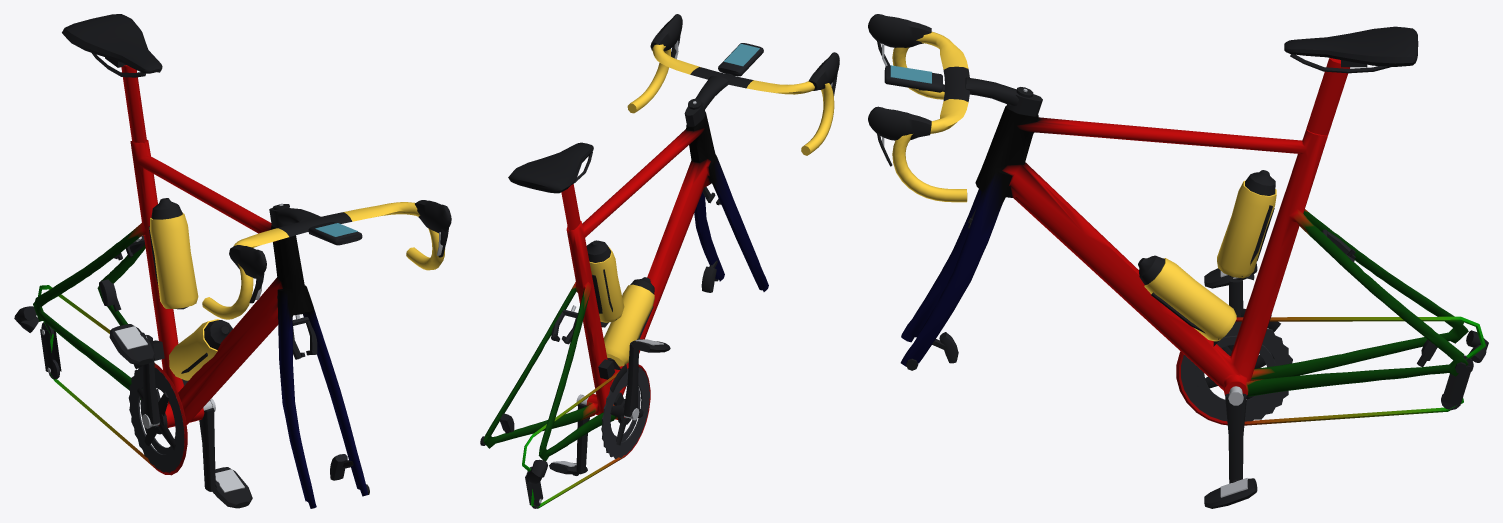
Rendered from aero.glb.
3 renders of one model, left to right at view 1: azimuth 30°, elevation 25°; view 2: azimuth 150°, elevation 25°; view 3: azimuth 270°, elevation 25°, orthographic. The views are drawn at different scales.
Parts seen in each view (by area): view 1: frame, cockpit, opt_bottles, crankset, saddle, opt_derailleur, pedal_R, pedal_L, opt_brakes_disc, opt_brakes_rim; view 2: frame, cockpit, opt_bottles, crankset, saddle, opt_derailleur, opt_brakes_disc, opt_brakes_rim, pedal_R; view 3: frame, cockpit, opt_bottles, crankset, saddle, opt_derailleur, pedal_L, opt_brakes_disc.
Part boxes in pixels (bbox=[...]): frame: bbox=[33, 65, 367, 508]; cockpit: bbox=[202, 200, 451, 319]; opt_bottles: bbox=[148, 198, 232, 386]; crankset: bbox=[128, 335, 215, 491]; saddle: bbox=[62, 14, 162, 77]; opt_derailleur: bbox=[14, 306, 164, 379]; pedal_R: bbox=[109, 324, 155, 365]; pedal_L: bbox=[212, 467, 252, 508]; opt_brakes_disc: bbox=[99, 279, 369, 494]; opt_brakes_rim: bbox=[114, 235, 317, 359]; frame: bbox=[483, 112, 768, 508]; cockpit: bbox=[627, 14, 839, 155]; opt_bottles: bbox=[586, 240, 654, 369]; crankset: bbox=[576, 340, 649, 474]; saddle: bbox=[508, 142, 593, 193]; opt_derailleur: bbox=[525, 359, 626, 508]; opt_brakes_disc: bbox=[480, 260, 718, 445]; opt_brakes_rim: bbox=[551, 186, 721, 344]; pedal_R: bbox=[631, 338, 670, 352]; frame: bbox=[900, 58, 1485, 425]; cockpit: bbox=[868, 14, 1042, 202]; opt_bottles: bbox=[1138, 170, 1276, 346]; crankset: bbox=[1181, 279, 1292, 483]; saddle: bbox=[1284, 26, 1418, 73]; opt_derailleur: bbox=[1241, 308, 1488, 410]; pedal_L: bbox=[1204, 478, 1257, 508]; opt_brakes_disc: bbox=[906, 332, 1467, 374].
Bounding box in the file's own units: 0.4654 × 0.8869 × 1.13.
